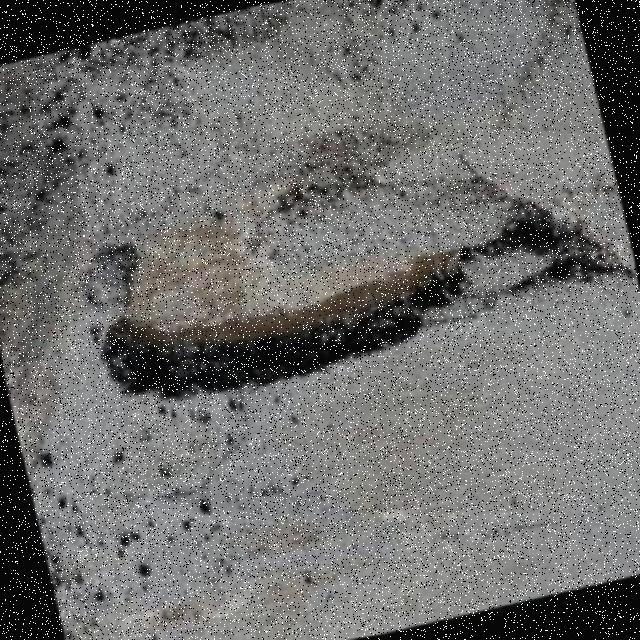Pothole: (101, 200, 638, 399)
